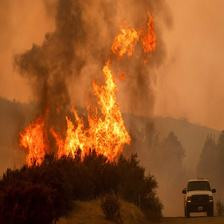fire: (15, 11, 158, 173)
